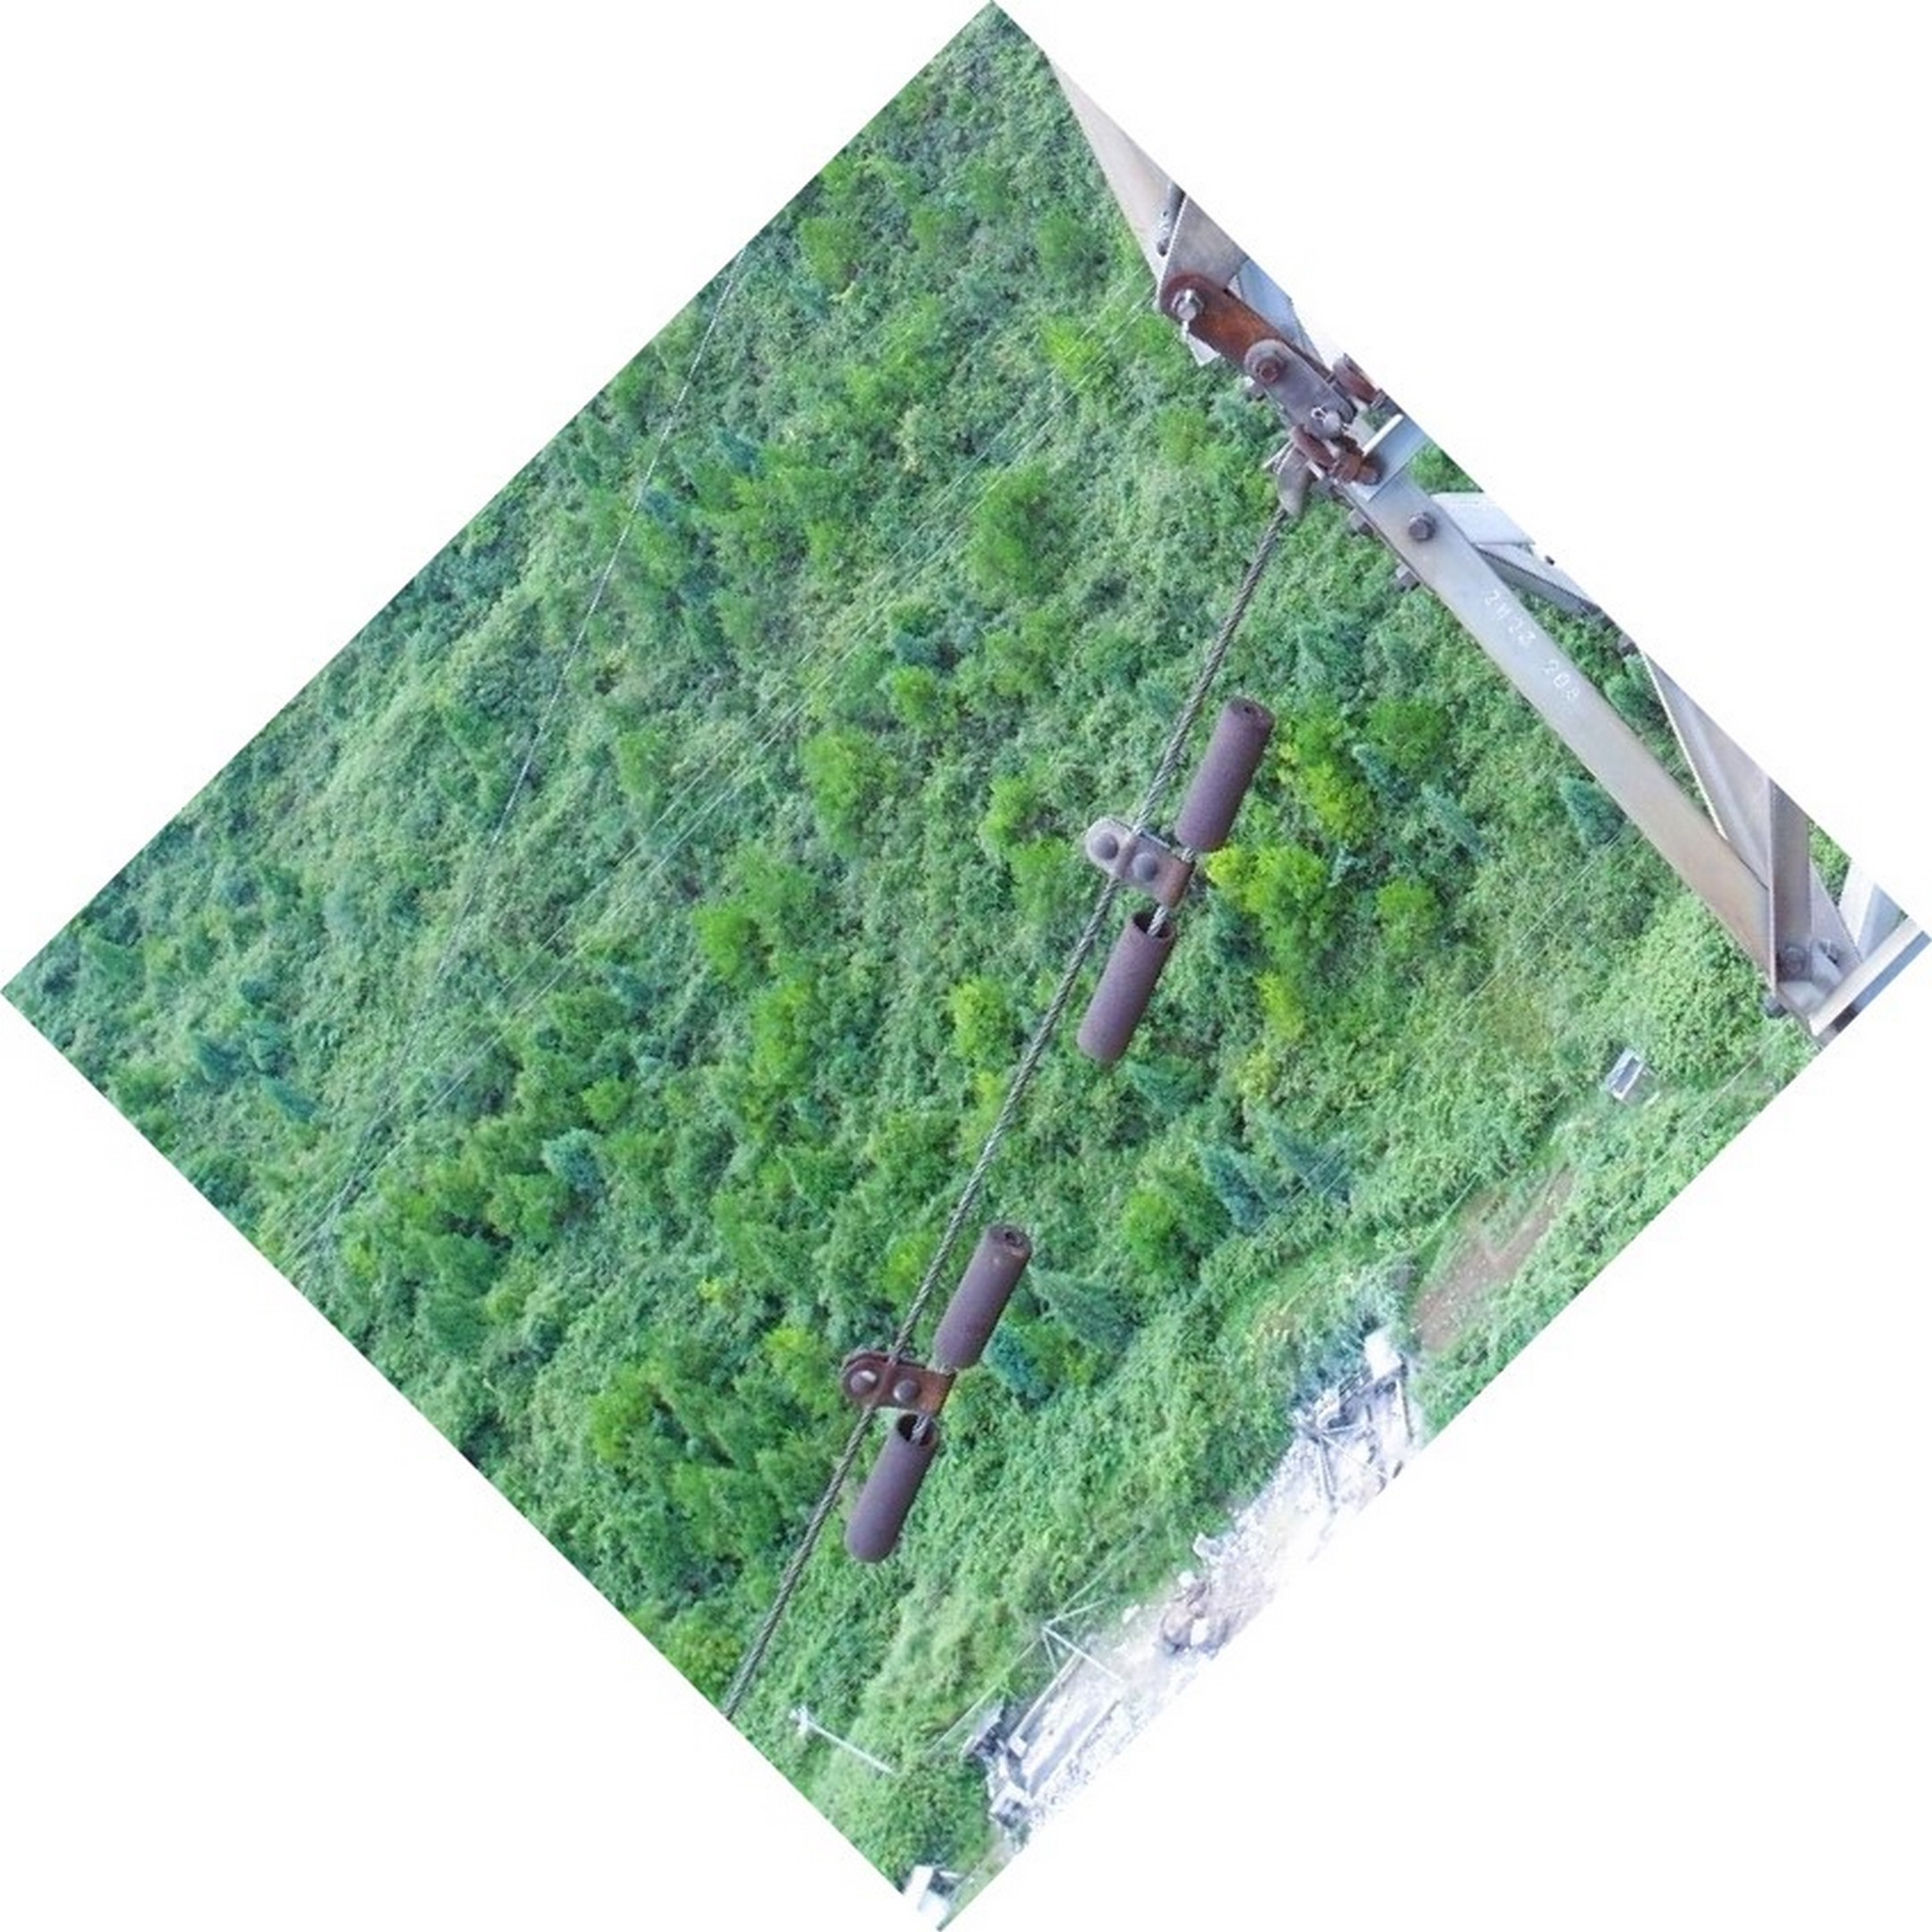Shockproof hammer: (1056, 665, 1288, 1093), (801, 1210, 1040, 1585)
